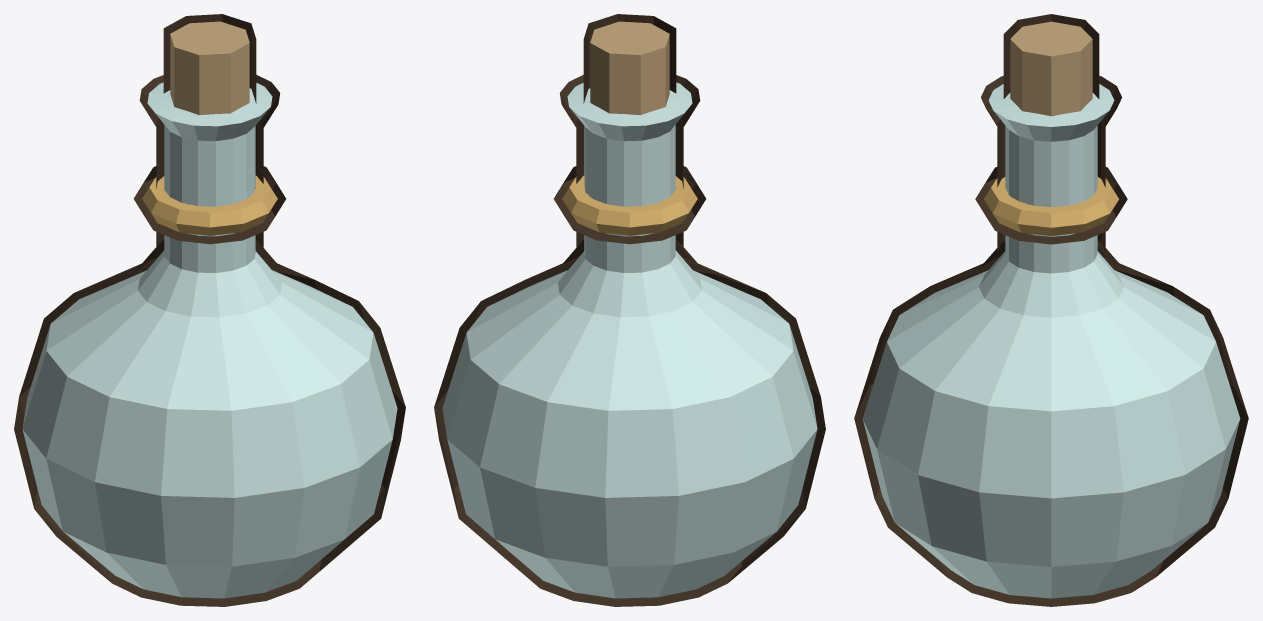
The model's file is water_flask.fbx.
The picture shows the model from 3 angles, left to right: view 1: azimuth 30°, elevation 25°; view 2: azimuth 150°, elevation 25°; view 3: azimuth 270°, elevation 25°; orthographic projection.
Visible parts, largest first — view 1: Flask, Cork, Collar; view 2: Flask, Cork, Collar; view 3: Flask, Cork, Collar.
Part boxes in pixels (bbox=[...]): Flask: bbox=[14, 75, 405, 606]; Cork: bbox=[163, 14, 256, 115]; Collar: bbox=[133, 166, 286, 244]; Flask: bbox=[434, 75, 825, 606]; Cork: bbox=[583, 14, 676, 115]; Collar: bbox=[553, 166, 706, 244]; Flask: bbox=[854, 76, 1248, 606]; Cork: bbox=[1003, 14, 1099, 116]; Collar: bbox=[975, 167, 1127, 244].
Bounding box in the file's own units: 0.163 × 0.2437 × 0.163.
